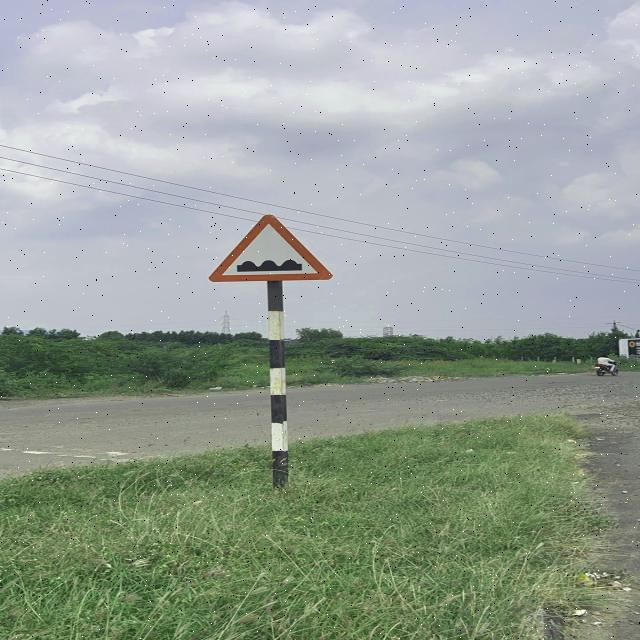Rumble_strip: (202, 218, 336, 283)
